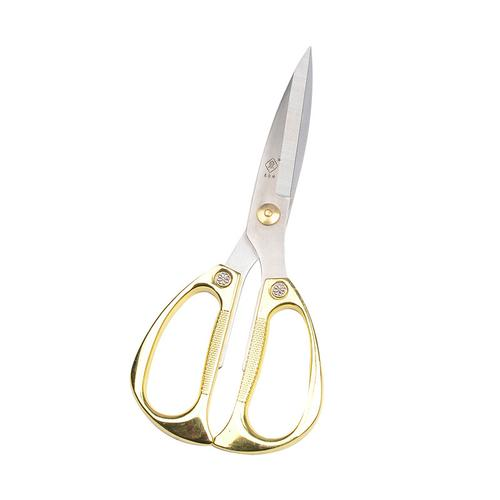scissor: (129, 46, 324, 456)
